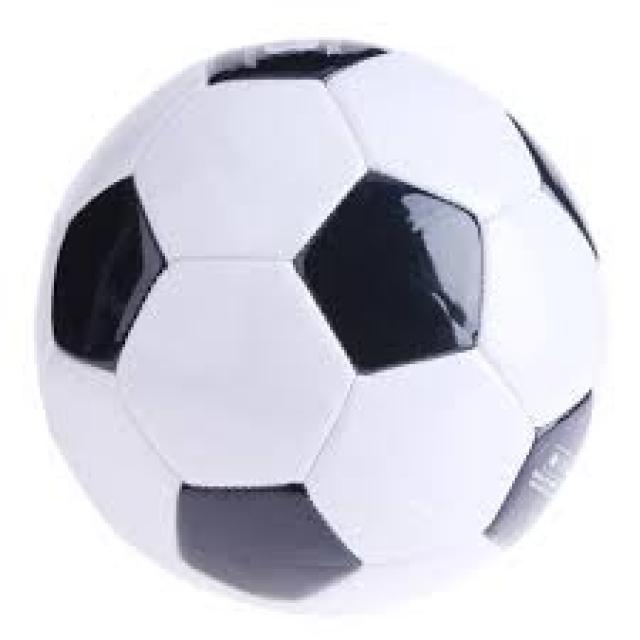football: (46, 43, 600, 612)
